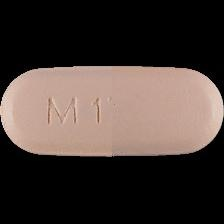0378-1743: (0, 0, 224, 224)
